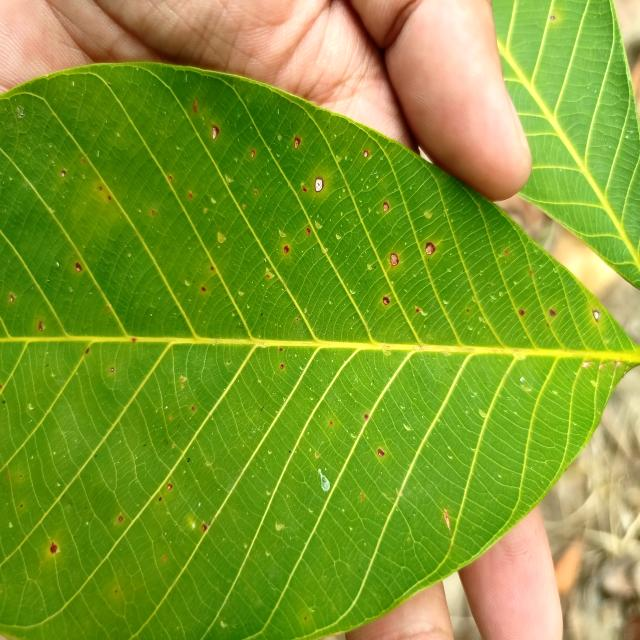Colletotrichum: (425, 242, 435, 255), (315, 177, 323, 192), (390, 253, 399, 266), (593, 310, 599, 322), (383, 202, 389, 213), (50, 545, 58, 553), (549, 309, 556, 317), (383, 297, 390, 305), (284, 245, 290, 254), (378, 448, 384, 456), (519, 309, 524, 317), (118, 516, 124, 522), (306, 228, 311, 235), (294, 140, 298, 148), (251, 150, 255, 158), (364, 151, 368, 158), (168, 484, 172, 490), (111, 368, 114, 372), (330, 422, 333, 426)
